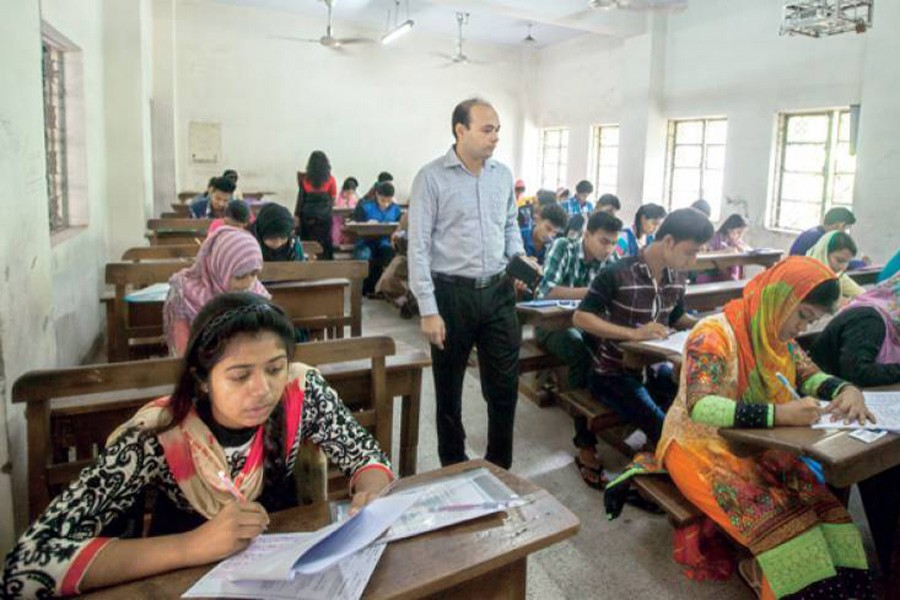invigilator: (421, 87, 518, 482), (296, 144, 345, 249)
student: (38, 304, 348, 570), (666, 265, 873, 511), (582, 214, 728, 381), (199, 218, 305, 345), (518, 210, 655, 299), (250, 201, 320, 275)
